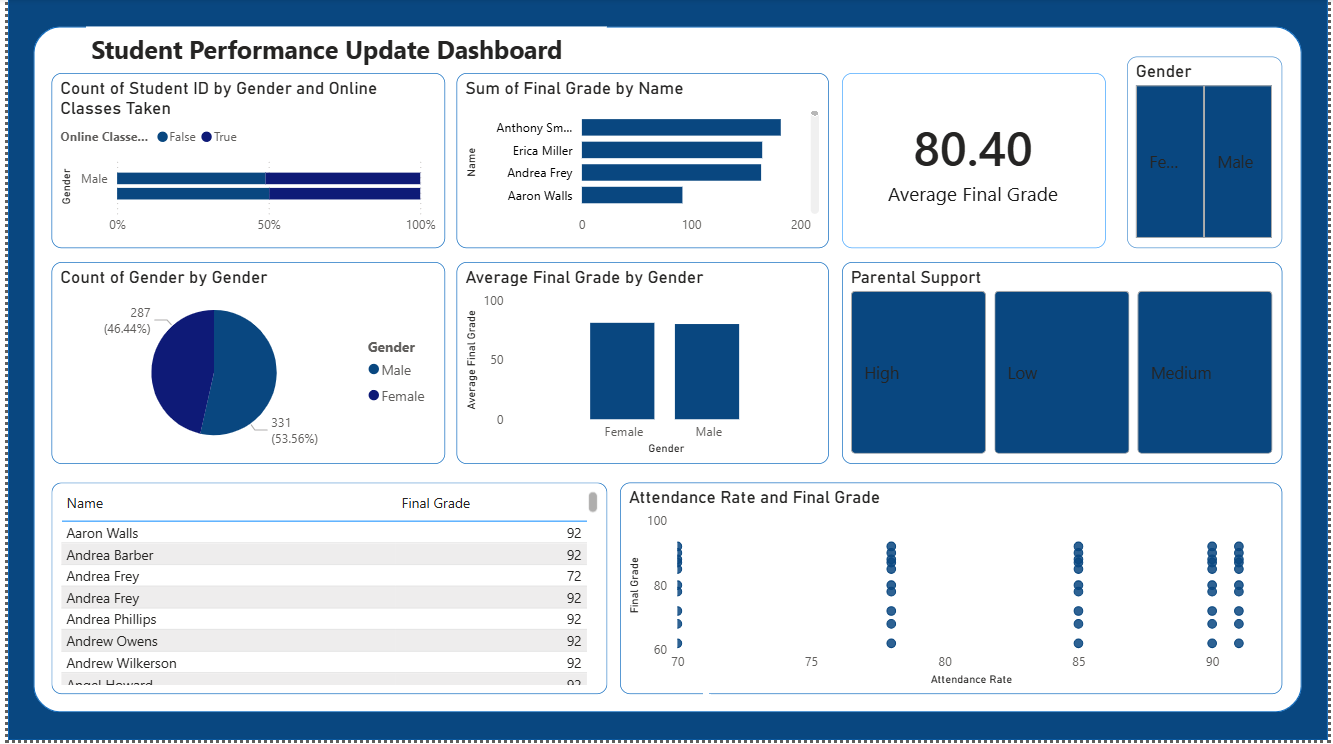

The page's visual inventory and layout, read from the dashboard file:
{"tool":"powerbi","page":{"name":"Page 2","canvas":[1280,720],"ordinal":1},"visuals":[{"type":"shape","box":[0,0,1280.8,720.6],"z":0},{"type":"shape","box":[24.3,27.5,1230.6,665.5],"z":1000},{"type":"textbox","box":[76.1,27.5,505.2,45.3],"z":3000},{"type":"cardVisual","fields":{"Data":["student_performance_updated_1000.Average Final Grade"]},"box":[809.6,72.9,255.8,170],"z":4000},{"type":"clusteredBarChart","fields":{"Category":["student_performance_updated_1000.Name"],"Y":["Sum(student_performance_updated_1000.Final Grade)"]},"box":[435.6,72.9,361.1,170],"z":5000},{"type":"advancedSlicerVisual","fields":{"Values":["student_performance_updated_1000.Parental Support"]},"box":[809.6,255.8,427.5,195.9],"z":6000},{"type":"hundredPercentStackedBarChart","fields":{"Category":["student_performance_updated_1000.Gender"],"Y":["CountNonNull(student_performance_updated_1000.Student ID)"],"Series":["student_performance_updated_1000.Online Classes Taken"]},"box":[42.1,72.9,382.1,170],"z":7000},{"type":"pieChart","fields":{"Category":["student_performance_updated_1000.Gender"],"Y":["CountNonNull(student_performance_updated_1000.Gender)"]},"box":[42.1,255.8,382.1,195.9],"z":8000},{"type":"columnChart","fields":{"Y":["student_performance_updated_1000.Average Final Grade"],"Category":["student_performance_updated_1000.Gender"]},"box":[435.6,255.8,361.1,195.9],"z":9000},{"type":"scatterChart","fields":{"X":["student_performance_updated_1000.Attendance Rate"],"Y":["student_performance_updated_1000.Final Grade"]},"box":[594.3,469.6,642.8,205.6],"z":10000},{"type":"tableEx","fields":{"Values":["student_performance_updated_1000.Name","student_performance_updated_1000.Final Grade"]},"box":[42.1,469.6,539.2,205.6],"z":11000},{"type":"advancedSlicerVisual","fields":{"Values":["student_performance_updated_1000.Gender"]},"box":[1086.5,56.7,150.6,186.2],"z":12000}]}

Visuals, with their boxes in screenshot pixels (x1, y1, x2, y2), scaled from the page's 1280x720 canvas onto the 1333x744 screenshot:
shape: l=0, t=0, r=1332, b=743
shape: l=25, t=28, r=1307, b=716
textbox: l=79, t=28, r=605, b=75
cardVisual - student_performance_updated_1000.Average Final Grade: l=843, t=75, r=1110, b=251
clusteredBarChart - student_performance_updated_1000.Name x Sum(student_performance_updated_1000.Final Grade): l=454, t=75, r=830, b=251
advancedSlicerVisual - student_performance_updated_1000.Parental Support: l=843, t=264, r=1288, b=467
hundredPercentStackedBarChart - student_performance_updated_1000.Gender x CountNonNull(student_performance_updated_1000.Student ID): l=44, t=75, r=442, b=251
pieChart - student_performance_updated_1000.Gender x CountNonNull(student_performance_updated_1000.Gender): l=44, t=264, r=442, b=467
columnChart - student_performance_updated_1000.Average Final Grade x student_performance_updated_1000.Gender: l=454, t=264, r=830, b=467
scatterChart - student_performance_updated_1000.Attendance Rate x student_performance_updated_1000.Final Grade: l=619, t=485, r=1288, b=698
tableEx - student_performance_updated_1000.Name x student_performance_updated_1000.Final Grade: l=44, t=485, r=605, b=698
advancedSlicerVisual - student_performance_updated_1000.Gender: l=1131, t=59, r=1288, b=251
